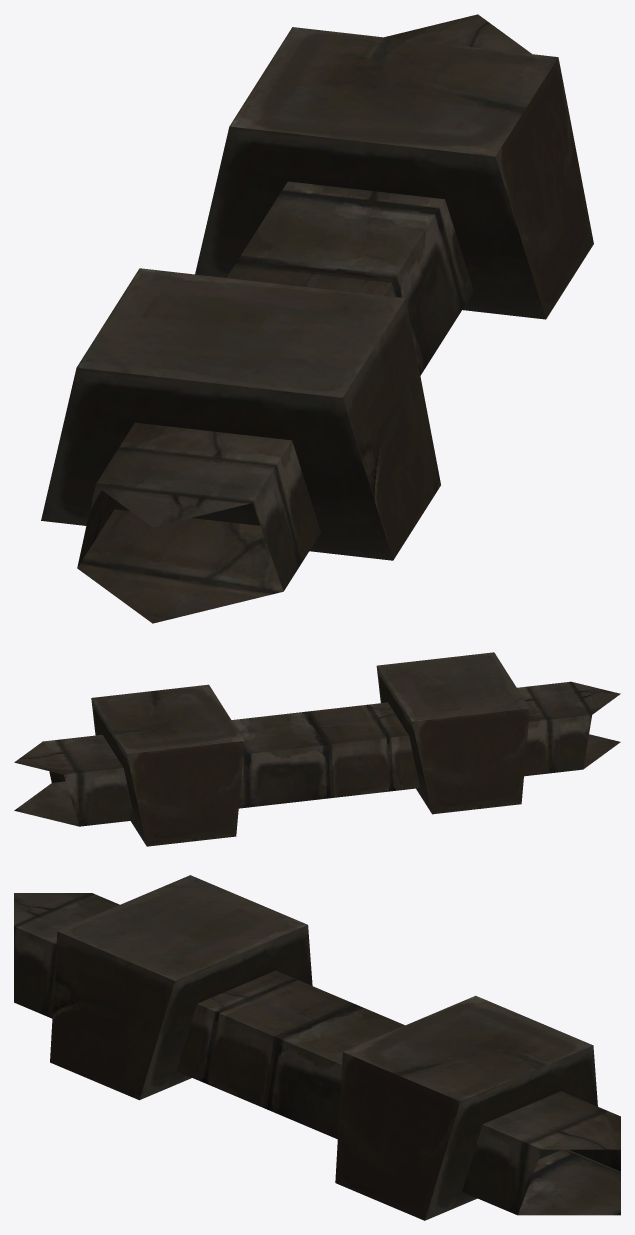
Rendered from fortress_cap_diagonal_01.fbx.
The picture shows the model from 3 angles, top to bottom: view 1: azimuth 30°, elevation 25°; view 2: azimuth 150°, elevation 25°; view 3: azimuth 270°, elevation 25°; orthographic projection. The views are drawn at different scales.
Parts seen in each view (by area): view 1: fortress_tileset/Cap_01_mat; view 2: fortress_tileset/Cap_01_mat; view 3: fortress_tileset/Cap_01_mat.
Boxes of the visible parts, x1=… form: fortress_tileset/Cap_01_mat: x1=41, y1=14, x2=593, y2=623; fortress_tileset/Cap_01_mat: x1=14, y1=652, x2=620, y2=846; fortress_tileset/Cap_01_mat: x1=14, y1=875, x2=620, y2=1220.
Size of the model in its own units: 4 by 0.8442 by 4.
